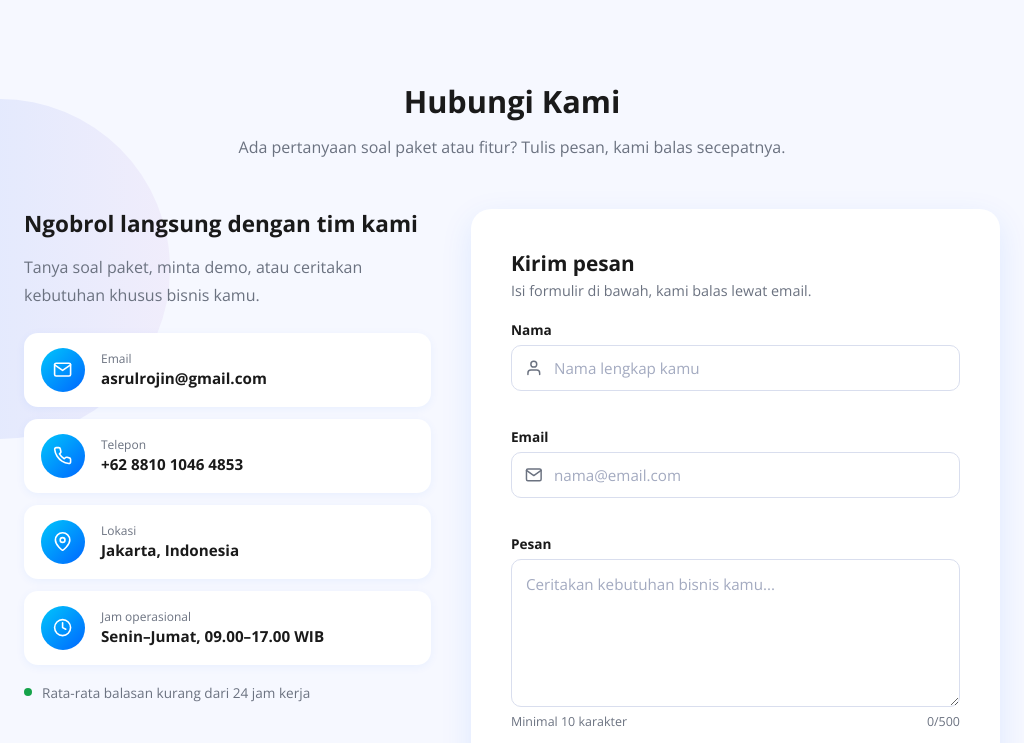
Test: Contact › menghitung karakter pesan
Expected: the text "0/500" is shown, [927,713,960,731]
Type "Halo" into the text box labelled "Pesan" at point(736, 633), box [511,559,960,707]
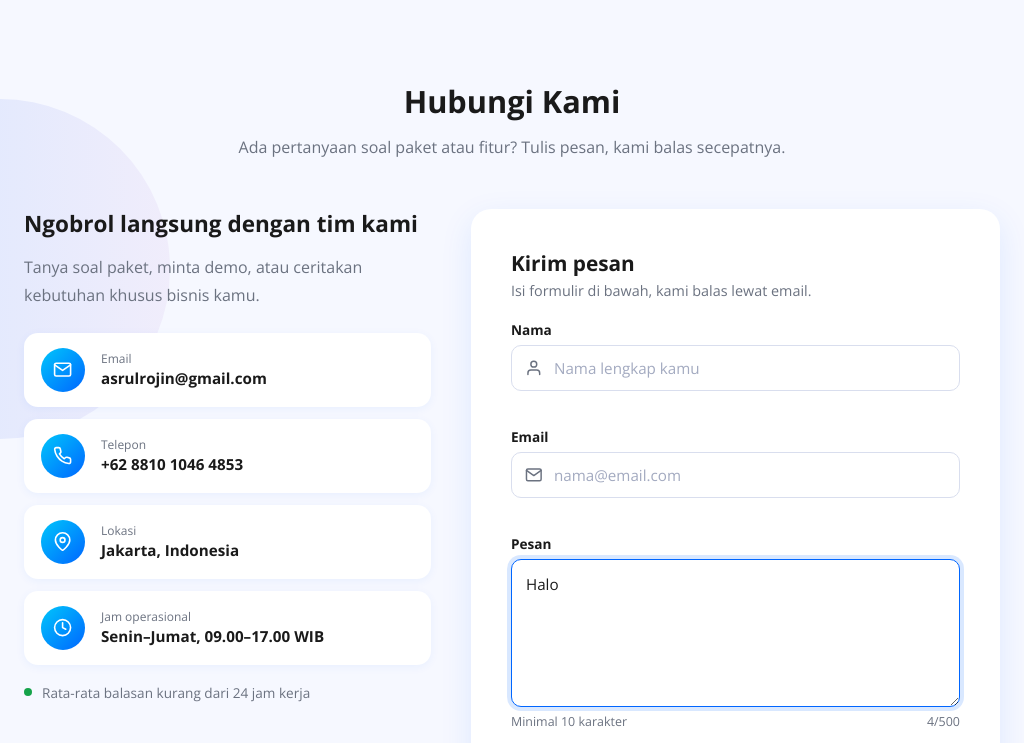
Expected: the text "4/500" is shown, [927,713,960,731]
